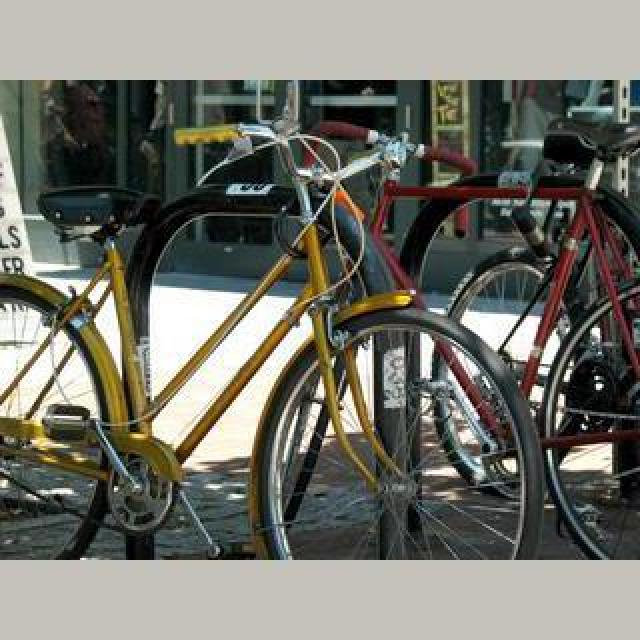Person: (0, 134, 560, 560), (268, 118, 640, 558)
